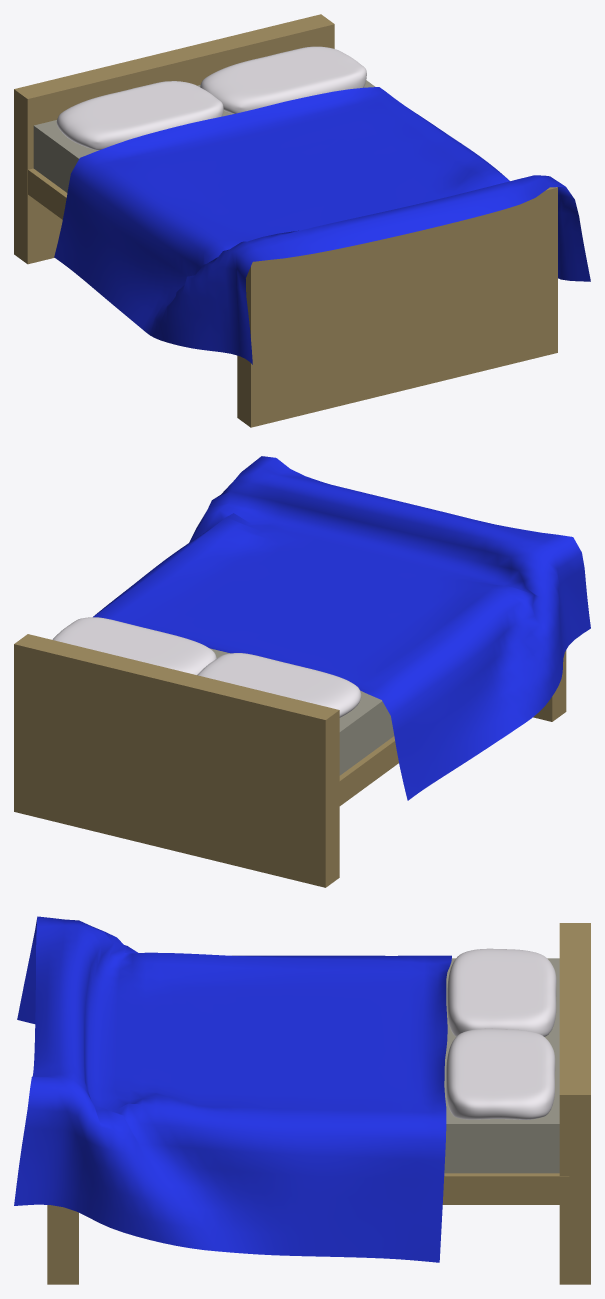
The model's file is DoubleBed.fbx.
3 views of the same model, one above another, from view 1: azimuth 30°, elevation 25°; view 2: azimuth 150°, elevation 25°; view 3: azimuth 270°, elevation 25° (orthographic). The views are drawn at different scales.
Parts seen in each view (by area): view 1: Plane.002, Cube.032, Cube.031, Sphere.010, Sphere.014, Cube.029, Cube.030; view 2: Plane.002, Cube.031, Sphere.010, Sphere.014, Cube.029, Cube.030, Cube.032; view 3: Plane.002, Cube.031, Sphere.014, Sphere.010, Cube.029, Cube.030, Cube.032.
Boxes of the visible parts, left/top/right/bottom form: Plane.002: left=54, top=87, right=590, bottom=364; Cube.032: left=237, top=187, right=557, bottom=427; Cube.031: left=14, top=14, right=334, bottom=264; Sphere.010: left=56, top=81, right=223, bottom=150; Sphere.014: left=200, top=46, right=366, bottom=113; Cube.029: left=33, top=80, right=375, bottom=192; Cube.030: left=28, top=168, right=67, bottom=219; Plane.002: left=93, top=456, right=590, bottom=800; Cube.031: left=14, top=634, right=339, bottom=887; Sphere.010: left=197, top=653, right=361, bottom=717; Sphere.014: left=52, top=617, right=216, bottom=674; Cube.029: left=210, top=648, right=394, bottom=775; Cube.030: left=339, top=736, right=398, bottom=805; Cube.032: left=533, top=650, right=566, bottom=721; Plane.002: left=14, top=916, right=451, bottom=1262; Cube.031: left=559, top=923, right=590, bottom=1284; Sphere.014: left=446, top=1028, right=555, bottom=1119; Sphere.010: left=447, top=948, right=556, bottom=1036; Cube.029: left=444, top=958, right=559, bottom=1173; Cube.030: left=442, top=1173, right=569, bottom=1204; Cube.032: left=47, top=1205, right=78, bottom=1284.
Bounding box in the file's own units: 733 × 322 × 843.
